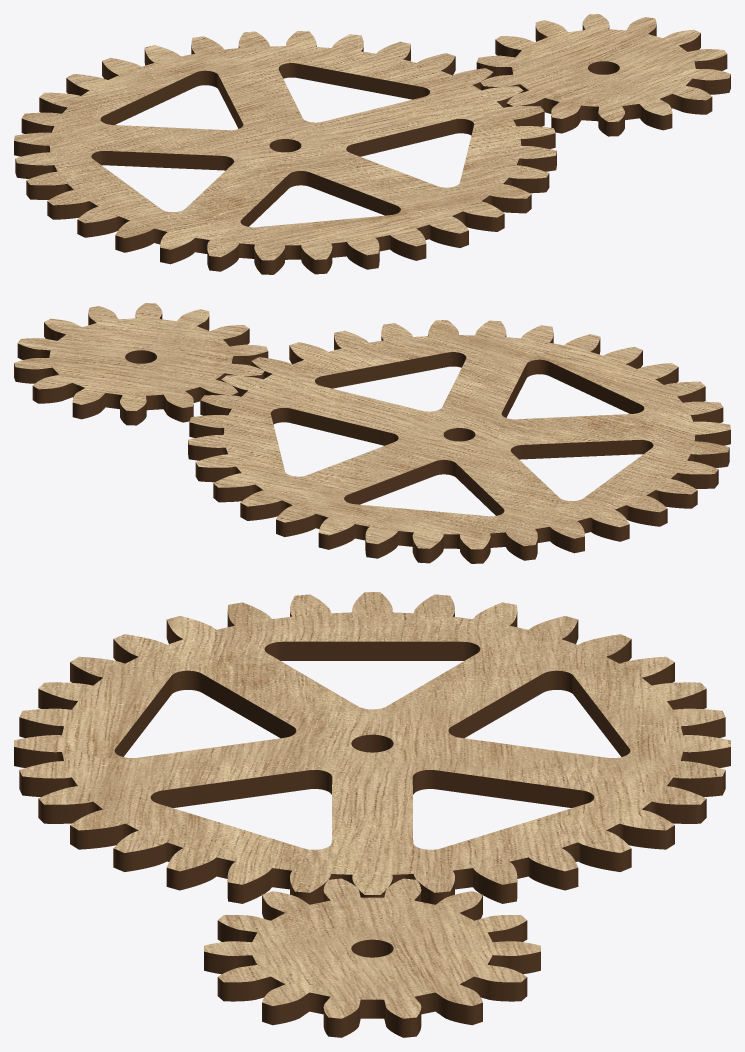
File: gears.glb
3 views of the same model, one above another, from view 1: azimuth 30°, elevation 25°; view 2: azimuth 150°, elevation 25°; view 3: azimuth 270°, elevation 25° (orthographic). The views are drawn at different scales.
Visible parts, largest first — view 1: body0, body1; view 2: body0, body1; view 3: body0, body1.
Boxes of the visible parts, x1,y1,x2,y2 form: body0: (14, 31, 556, 274); body1: (476, 14, 730, 136); body0: (188, 320, 730, 563); body1: (14, 303, 268, 425); body0: (14, 592, 730, 904); body1: (204, 878, 540, 1037).
Size of the model in its own units: 0.1436 by 0.003 by 0.102.
2 materials, 1 textured.
